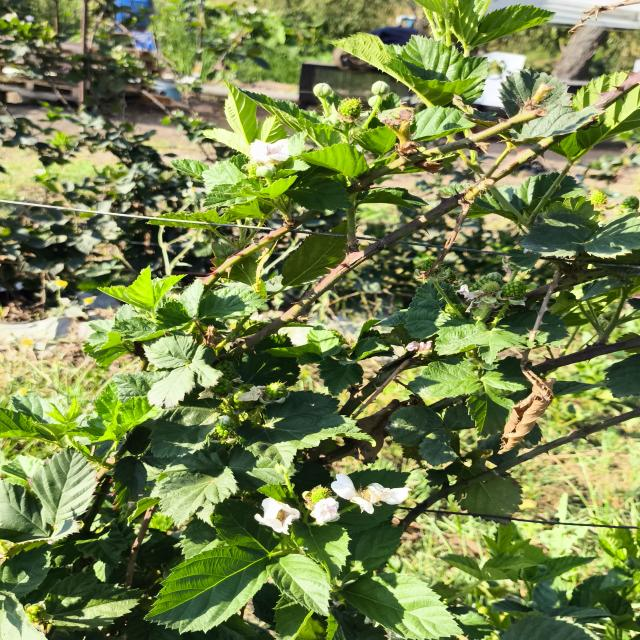boton: (371, 80, 390, 96), (256, 164, 276, 179), (313, 83, 332, 98), (368, 96, 379, 107)
flor: (331, 473, 409, 513), (255, 498, 300, 534), (249, 139, 290, 165), (311, 497, 340, 524)
